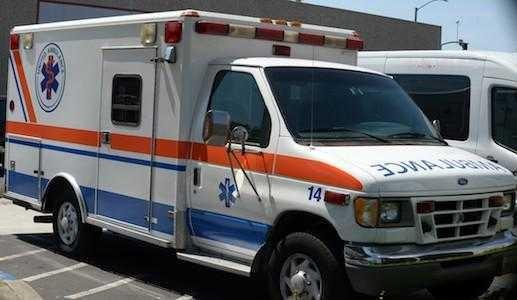car: (1, 8, 515, 299)
